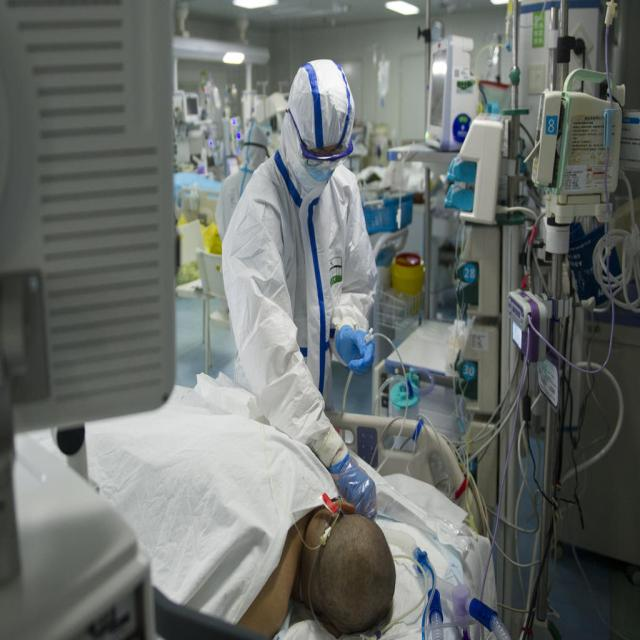Coverall: (222, 55, 379, 462), (214, 121, 267, 242)
Gloves: (331, 449, 378, 519), (333, 323, 376, 373)
Goggles: (298, 145, 356, 175)
Mask: (308, 162, 338, 182)
